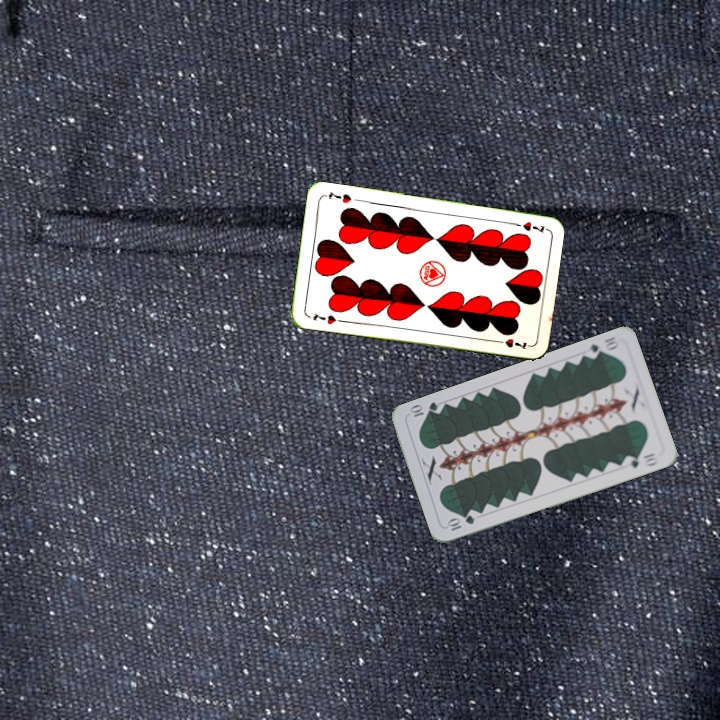G10: (581, 333, 621, 361), (443, 511, 477, 533)
H7: (508, 218, 548, 235), (309, 309, 346, 327)
